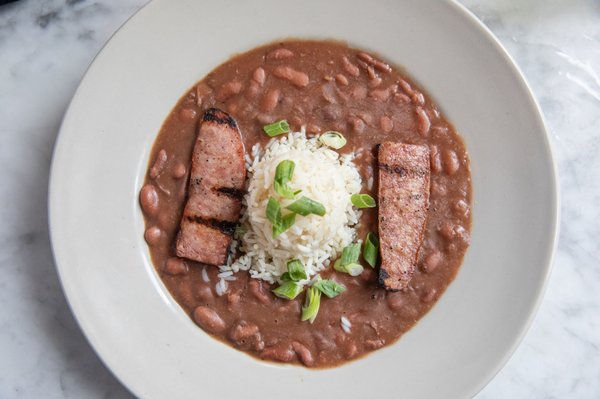soup: (136, 38, 477, 371)
